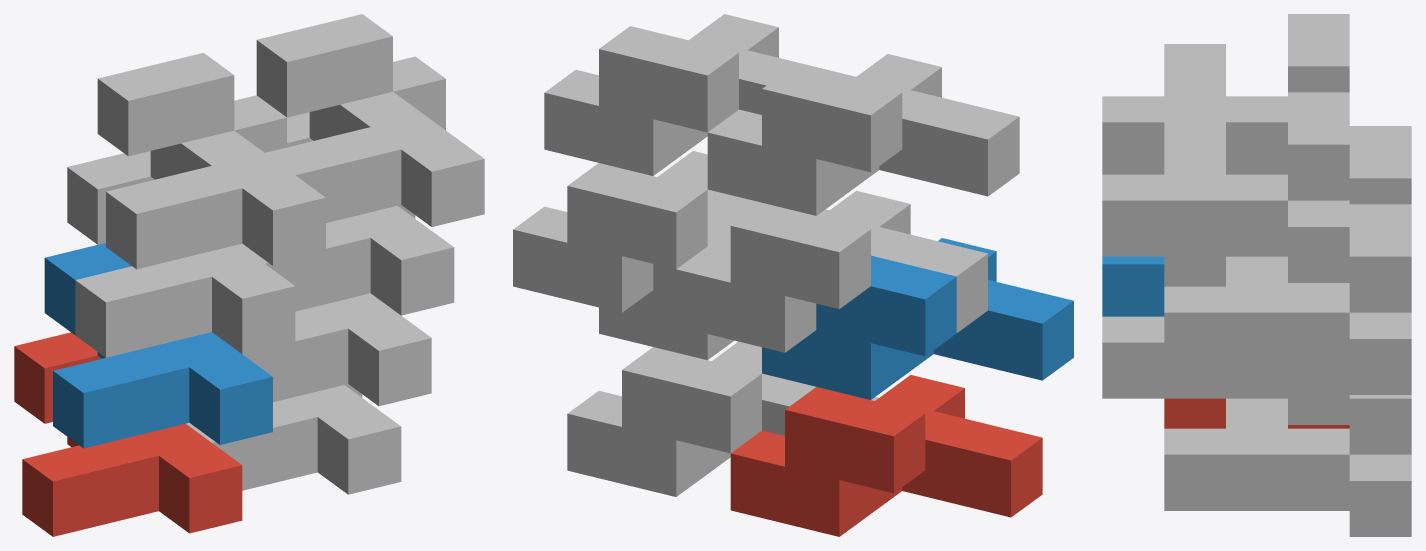
File: tiling.obj
3 views of the same model, side by side, from view 1: azimuth 30°, elevation 25°; view 2: azimuth 150°, elevation 25°; view 3: azimuth 270°, elevation 25° (orthographic). The views are drawn at different scales.
Parts seen in each view (by area): view 1: copy_1_domain_4, copy_1_domain_8, copy_1_domain_3, copy_1_domain_1, copy_1_domain_2, copy_1_domain_7, copy_1_domain_6, copy_1_domain_5; view 2: copy_1_domain_1, copy_1_domain_4, copy_1_domain_3, copy_1_domain_8, copy_1_domain_2, copy_1_domain_5, copy_1_domain_7, copy_1_domain_6; view 3: copy_1_domain_8, copy_1_domain_7, copy_1_domain_5, copy_1_domain_4, copy_1_domain_6, copy_1_domain_3, copy_1_domain_2, copy_1_domain_1.
Boxes of the visible parts, left/top/right/bottom form: copy_1_domain_4: left=97, top=53, right=325, bottom=269; copy_1_domain_8: left=256, top=14, right=484, bottom=226; copy_1_domain_3: left=67, top=151, right=295, bottom=357; copy_1_domain_1: left=14, top=332, right=242, bottom=536; copy_1_domain_2: left=44, top=243, right=272, bottom=448; copy_1_domain_7: left=239, top=112, right=454, bottom=315; copy_1_domain_6: left=243, top=293, right=431, bottom=406; copy_1_domain_5: left=186, top=384, right=401, bottom=494; copy_1_domain_1: left=730, top=375, right=1042, bottom=536; copy_1_domain_4: left=707, top=54, right=1019, bottom=215; copy_1_domain_3: left=676, top=190, right=987, bottom=352; copy_1_domain_8: left=544, top=14, right=855, bottom=175; copy_1_domain_2: left=762, top=238, right=1073, bottom=399; copy_1_domain_5: left=567, top=341, right=878, bottom=496; copy_1_domain_7: left=513, top=151, right=824, bottom=312; copy_1_domain_6: left=599, top=209, right=828, bottom=360; copy_1_domain_8: left=1102, top=92, right=1349, bottom=282; copy_1_domain_7: left=1164, top=204, right=1411, bottom=394; copy_1_domain_5: left=1164, top=395, right=1411, bottom=536; copy_1_domain_4: left=1102, top=14, right=1349, bottom=174; copy_1_domain_6: left=1102, top=283, right=1349, bottom=424; copy_1_domain_3: left=1164, top=126, right=1411, bottom=286; copy_1_domain_2: left=1102, top=256, right=1164, bottom=316; copy_1_domain_1: left=1164, top=398, right=1349, bottom=428.
Bounding box in the file's own units: 8 × 7 × 5.
